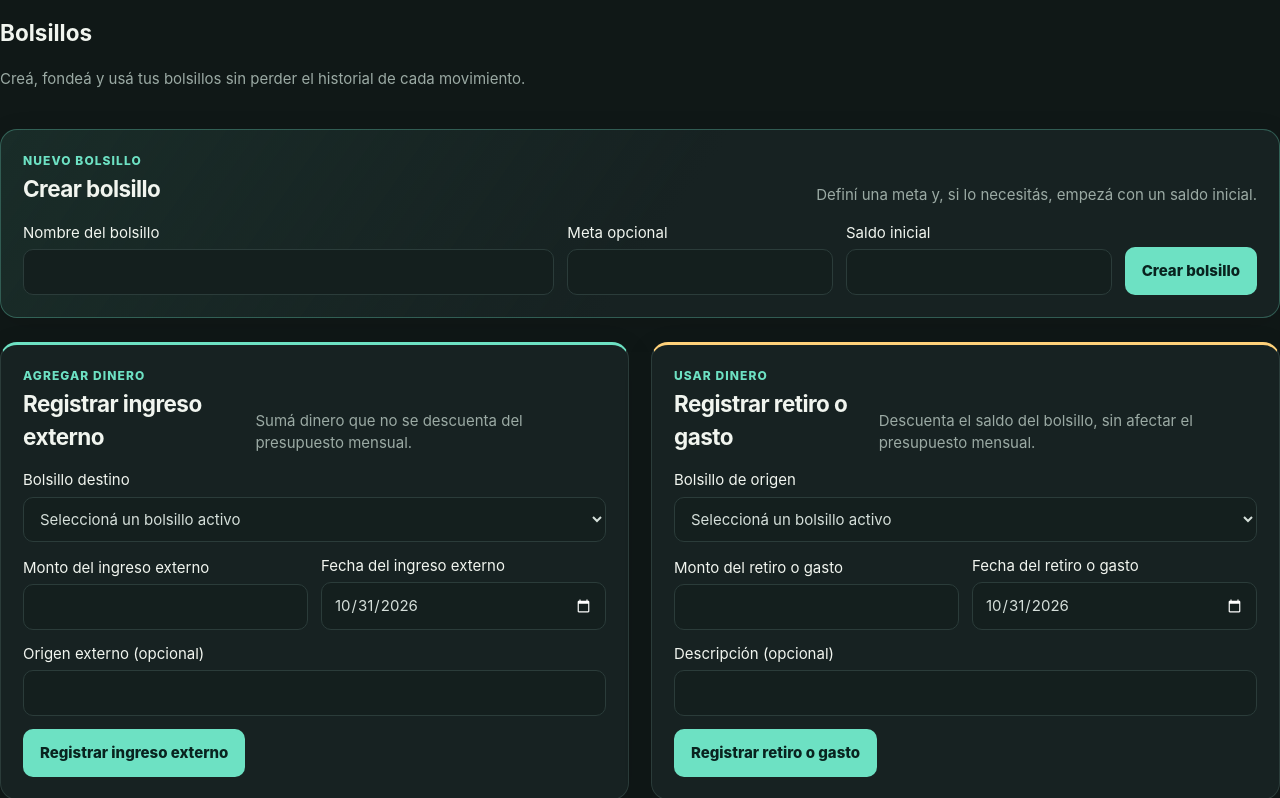
Test: PocketsPage › submits a pocket withdrawal and refreshes the displayed balance
Select "Emergencias ($250 COP)" in the dropdown labelled "Bolsillo de origen" at (966, 519), box [674,497,1257,542]
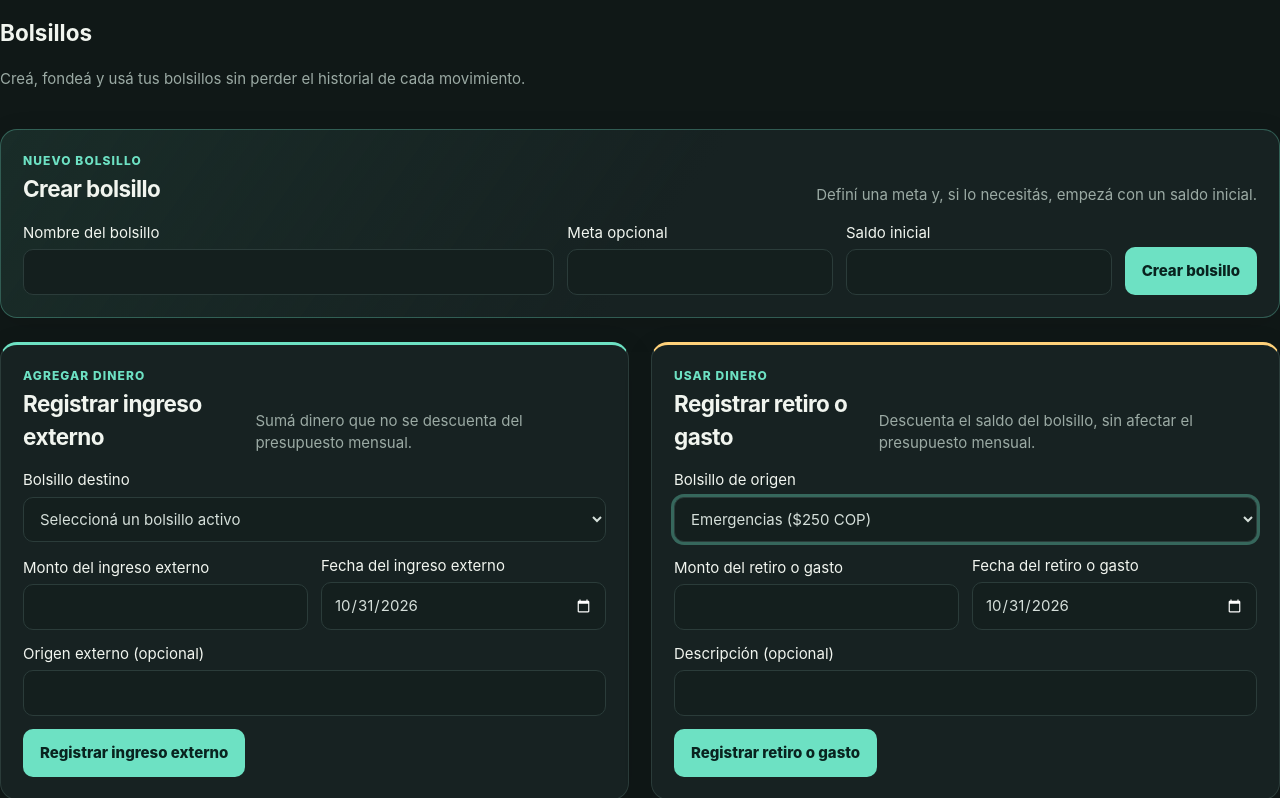
Type "75" into the number field labelled "Monto del retiro o gasto" at (816, 607), box [674,584,959,630]
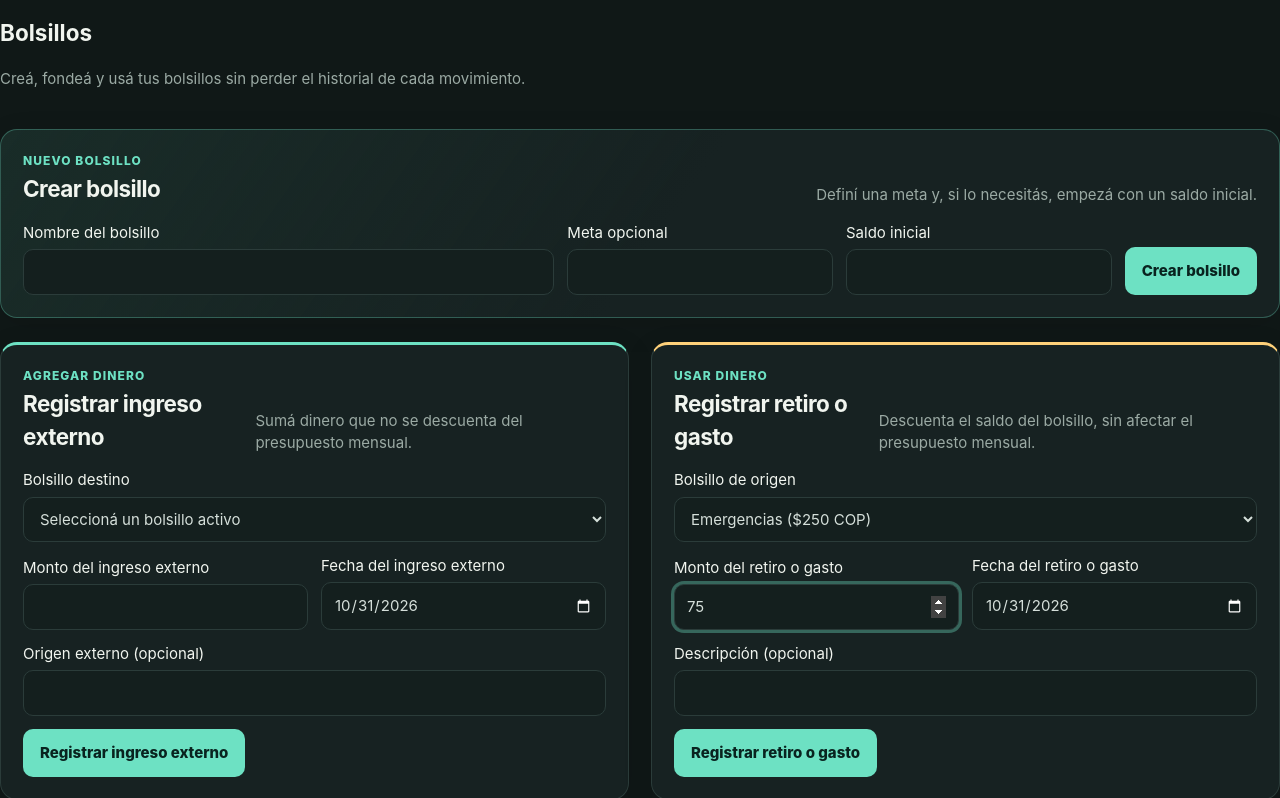
Type "2026-05-14" into the date field labelled "Fecha del retiro o gasto" at (1114, 606), box [972,582,1257,630]
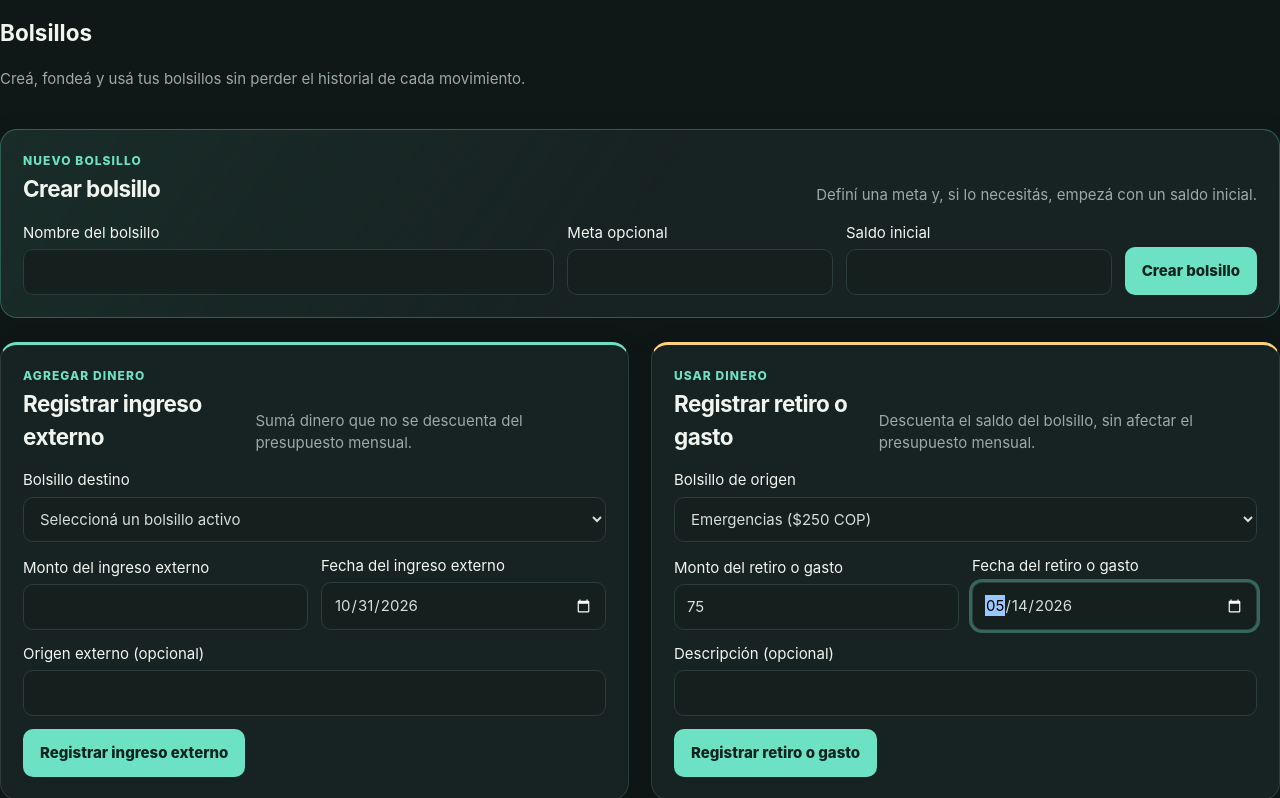
Type "Groceries" into the field labelled "Descripción (opcional)" at (966, 693), box [674,670,1257,716]
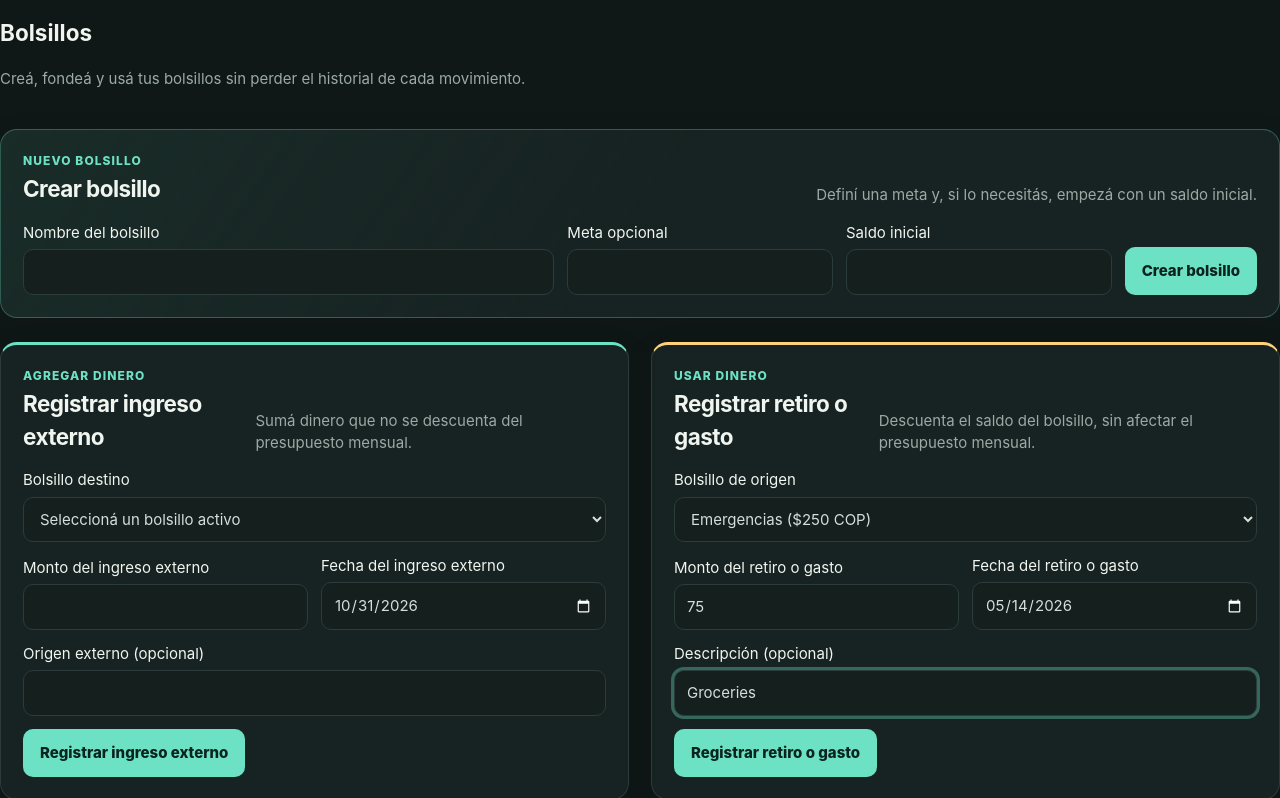
Click the button "Registrar retiro o gasto" at (776, 753), box [674,729,877,777]
(page scrolled)
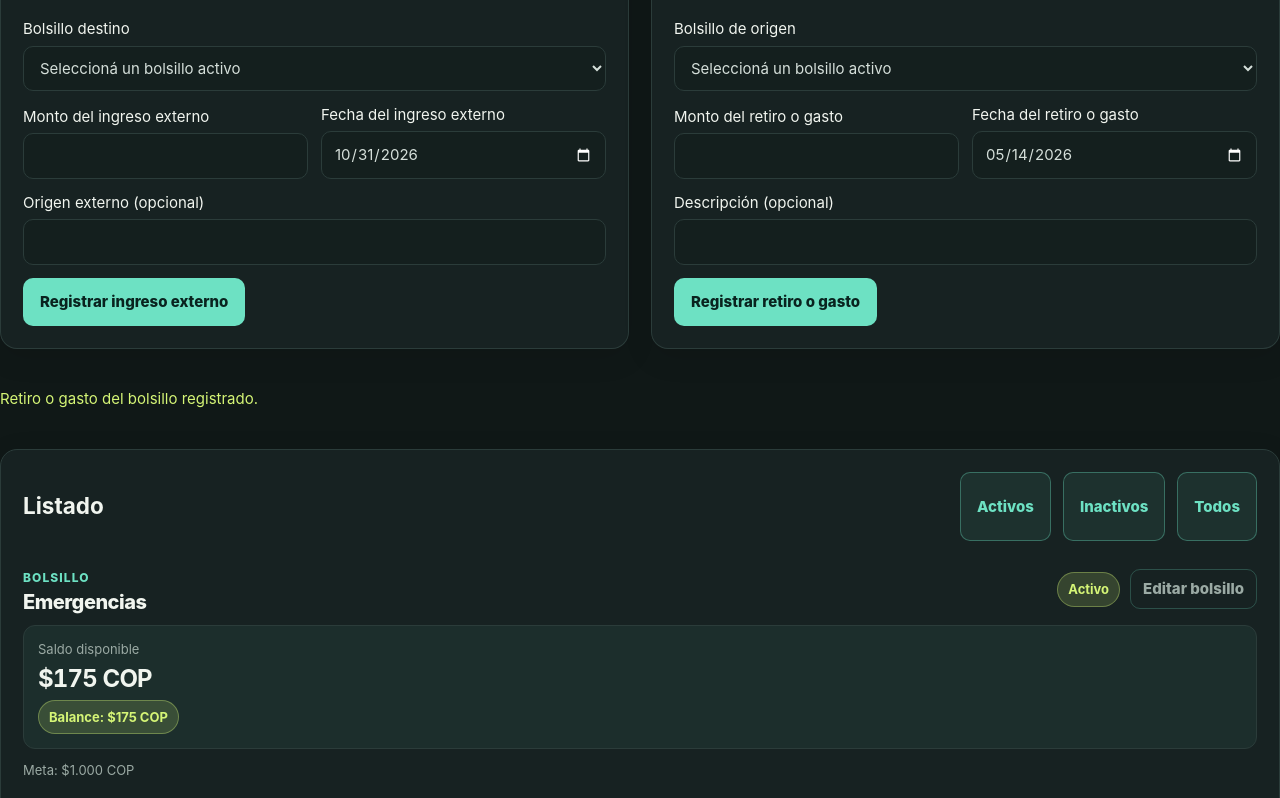
Now the text "Balance: $175 COP" is shown, box [38,700,179,734]
Now the text "Retiro o gasto del bolsillo registrado." is shown, box [0,389,258,408]
